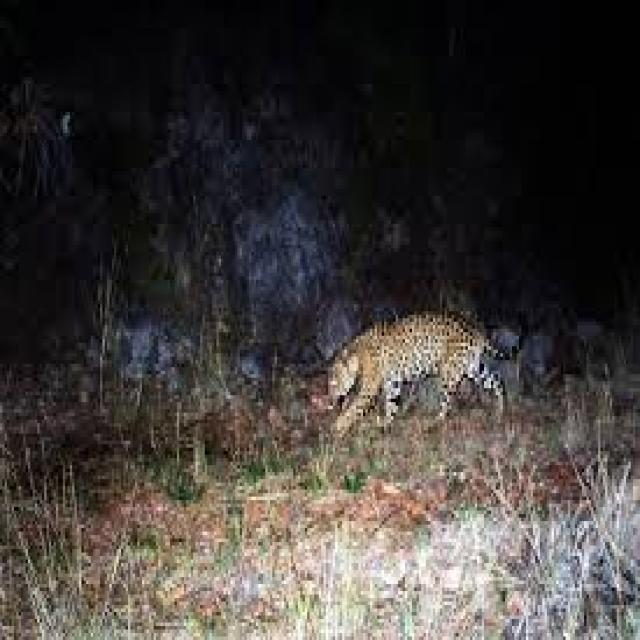Jaguar: (307, 301, 505, 434)
